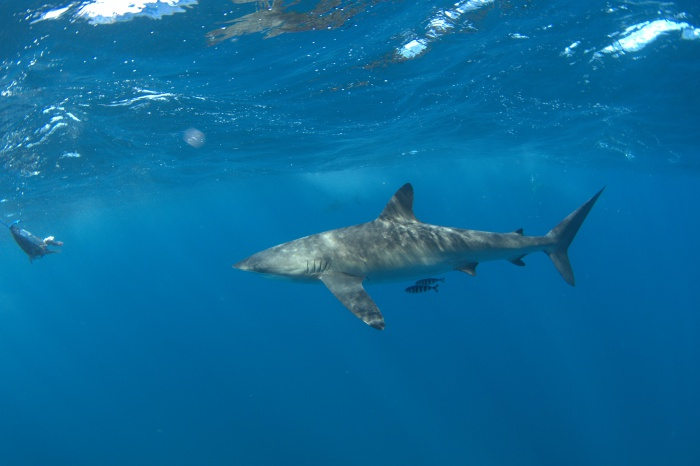Sedoso: (225, 169, 613, 344)
